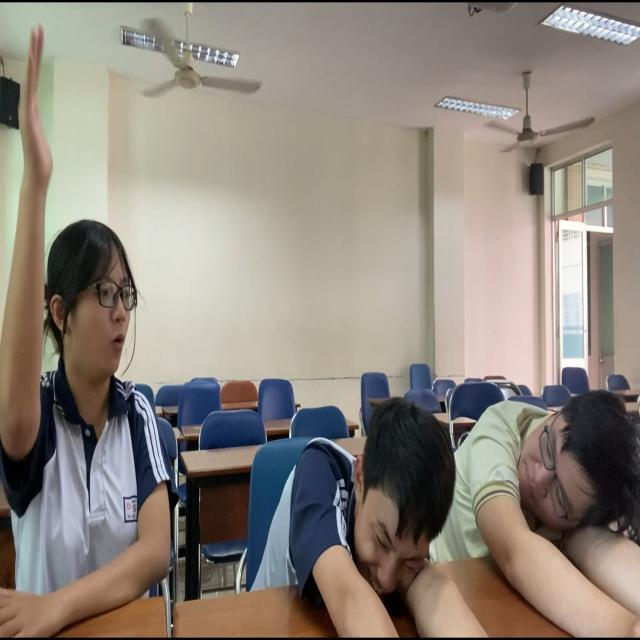raise_hand: (1, 27, 171, 640)
sleep: (240, 388, 454, 632), (461, 376, 640, 588)
